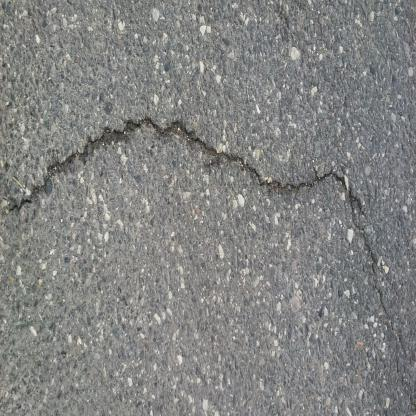Cracks: (1, 103, 372, 253)
